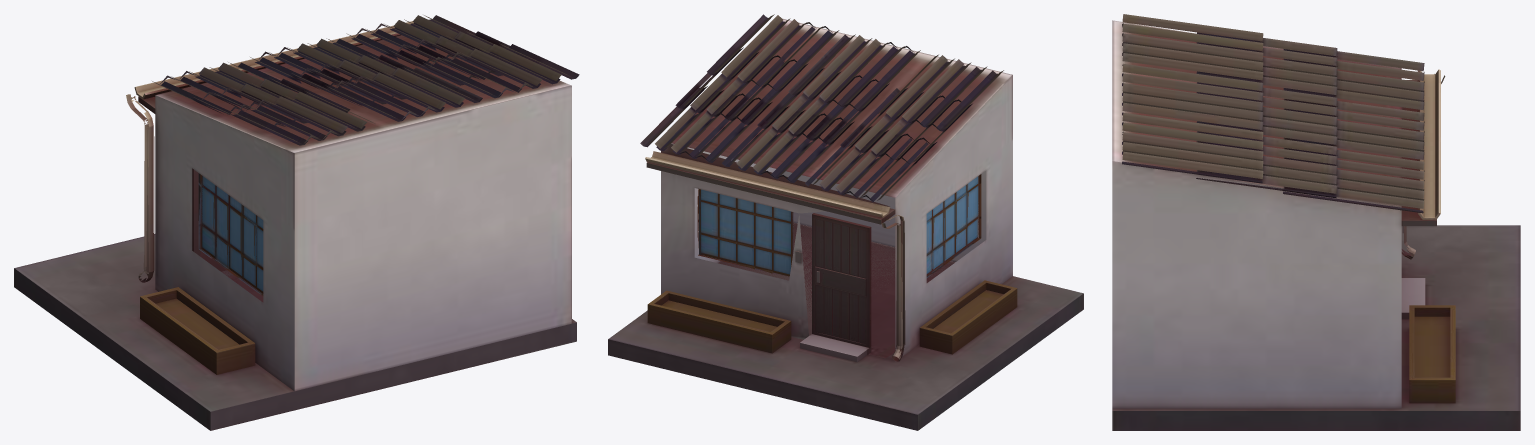
The model's file is casa-techo-ondulado.glb.
3 renders of one model, left to right at view 1: azimuth 30°, elevation 25°; view 2: azimuth 150°, elevation 25°; view 3: azimuth 270°, elevation 25°, orthographic. The views are drawn at different scales.
Visible parts, largest first — view 1: Paredes.001, Piso.001, Techo.001, macetas.001, Ventana.001, Material.006, Canal, Puerta.001; view 2: Paredes.001, Techo.001, Piso.001, Ventana.001, macetas.001, Puerta.001, Canal, Base techo.001, Material.006, Escalon.001; view 3: Paredes.001, Techo.001, Piso.001, macetas.001, Canal, Escalon.001, Base techo.001.
Boxes of the visible parts, x1,y1,x2,y2 form: Paredes.001: [155, 35, 571, 391]; Piso.001: [14, 234, 576, 430]; Techo.001: [152, 15, 579, 145]; macetas.001: [140, 287, 255, 374]; Ventana.001: [198, 173, 263, 296]; Material.006: [126, 94, 154, 282]; Canal: [134, 21, 413, 99]; Puerta.001: [192, 168, 218, 267]; Paredes.001: [661, 18, 1012, 361]; Techo.001: [640, 14, 1003, 201]; Piso.001: [608, 222, 1083, 430]; Ventana.001: [697, 174, 981, 277]; macetas.001: [647, 280, 1017, 354]; Puerta.001: [812, 213, 871, 347]; Canal: [645, 151, 890, 217]; Base techo.001: [646, 152, 895, 224]; Material.006: [881, 215, 905, 361]; Escalon.001: [800, 334, 871, 362]; Paredes.001: [1112, 20, 1401, 408]; Techo.001: [1122, 14, 1424, 213]; Piso.001: [1112, 225, 1520, 430]; macetas.001: [1409, 305, 1455, 403]; Canal: [1417, 69, 1440, 219]; Escalon.001: [1401, 278, 1425, 319]; Base techo.001: [1401, 80, 1436, 226].
Size of the model in its own units: 5.94 by 4.03 by 5.38.
Materials: 11 (11 with a texture image).
